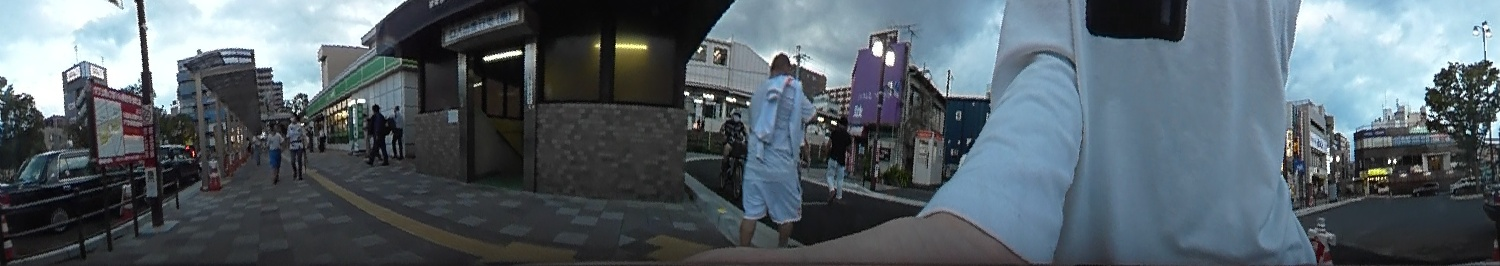difficult_person: (247, 131, 263, 164), (302, 121, 316, 151), (316, 122, 328, 154)
person: (738, 49, 807, 241), (820, 117, 858, 204), (713, 110, 750, 178), (259, 118, 286, 181), (283, 110, 308, 177), (363, 100, 389, 163), (386, 102, 405, 154)
